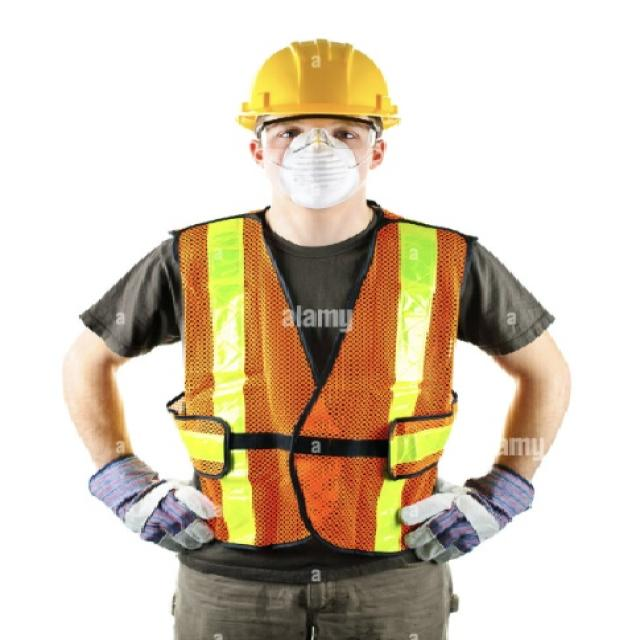gloves: (78, 456, 224, 566), (393, 463, 537, 562)
goggles: (257, 117, 388, 158)
helmet: (220, 24, 423, 124)
person: (15, 20, 597, 640)
vest: (170, 197, 443, 552)
